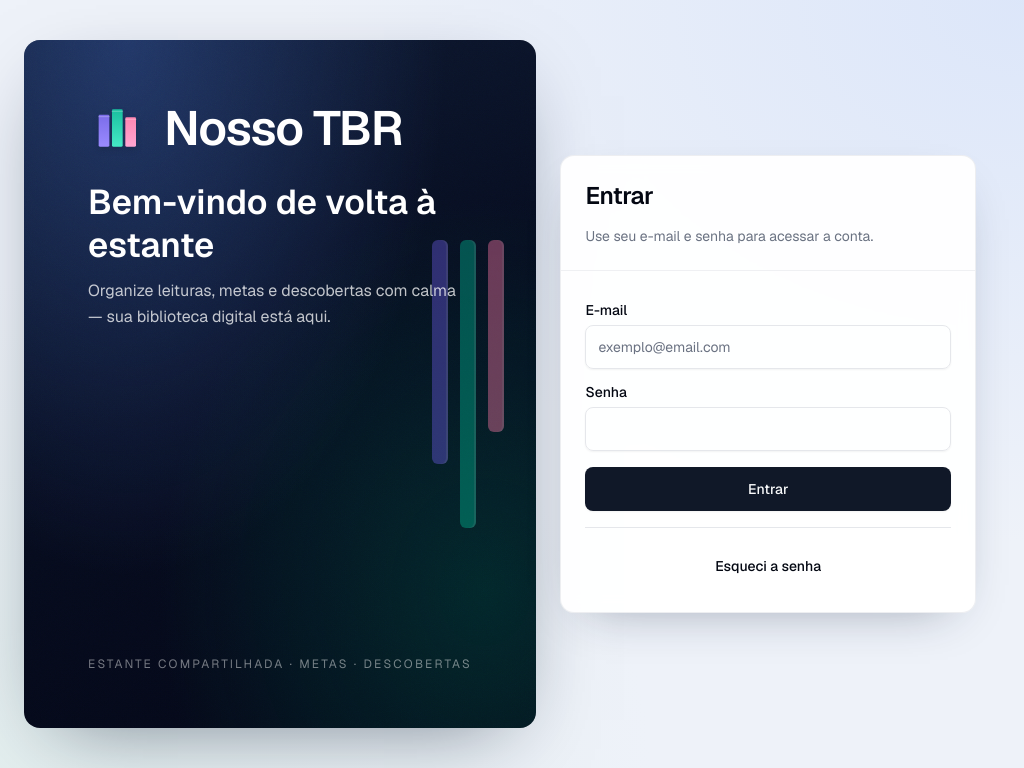
AuthPage › exibe mensagem de sucesso retornada por loginAction
In the field named "email": (768, 347) 585,325 -> 951,369, type "novo@example.com"
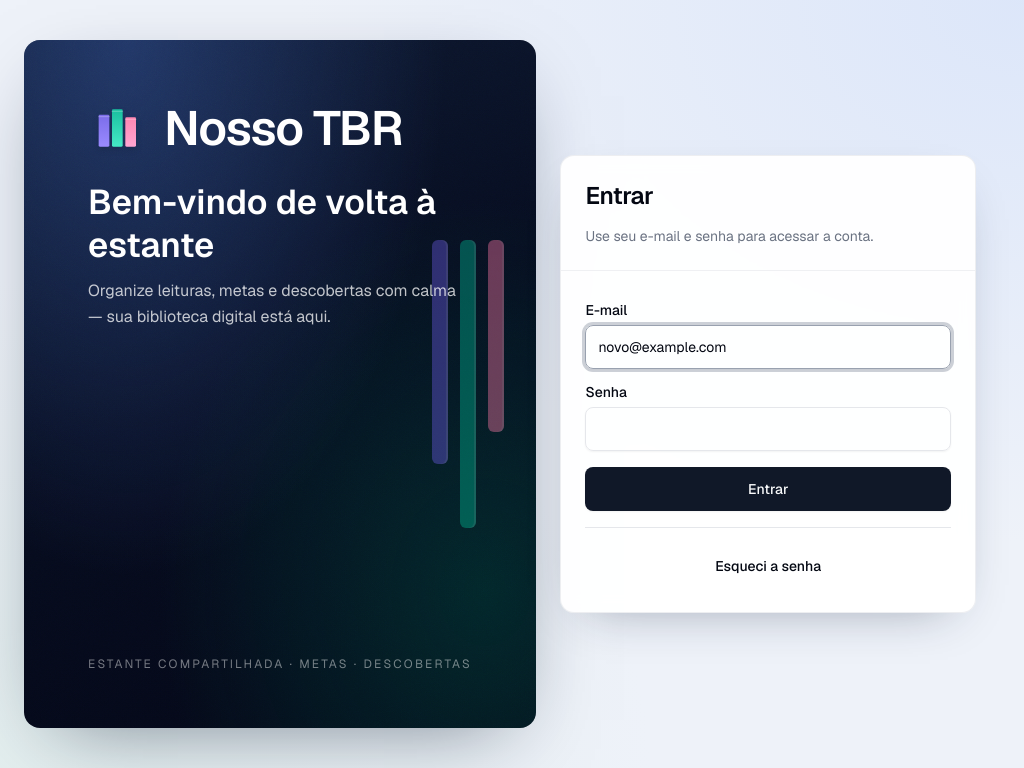
In the password field named "Password": (768, 429) 585,407 -> 951,451, type "outraSenha9"
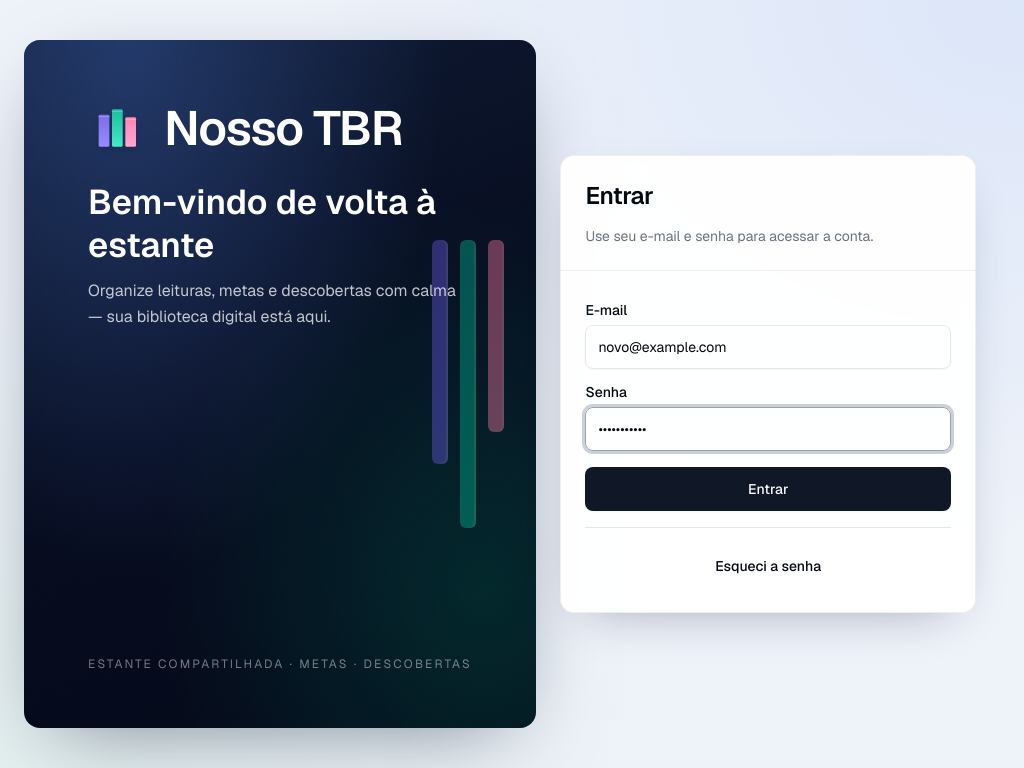
Click the button with aria-label "submit sign in": (768, 489) 585,467 -> 951,511
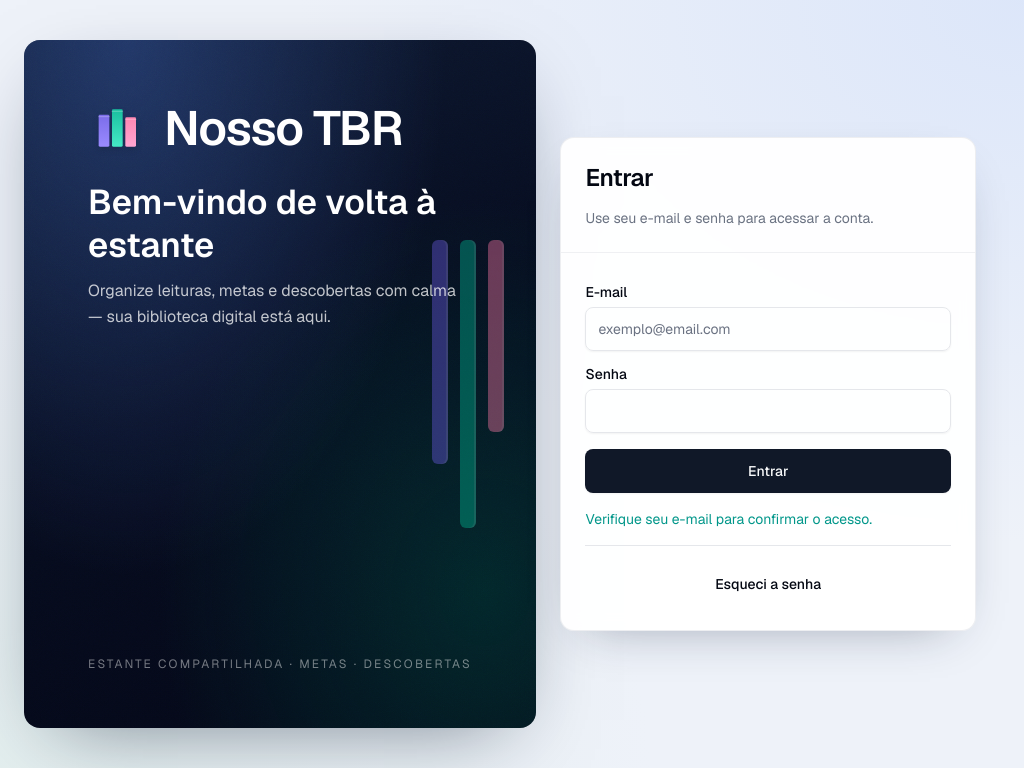
Expected: the text "Verifique seu e-mail para confirmar o acesso." is shown, 585,510 -> 872,528
